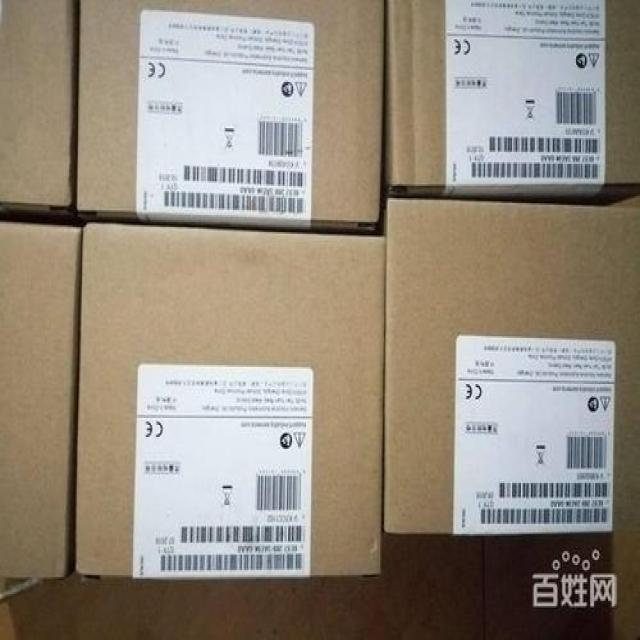box: (72, 223, 386, 579), (378, 196, 621, 533), (76, 4, 387, 231), (382, 2, 638, 205), (0, 218, 85, 578), (0, 2, 78, 210), (612, 197, 638, 637)
